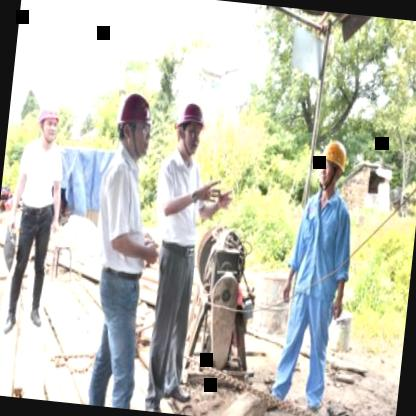helmet: (112, 90, 154, 162), (172, 95, 209, 160), (316, 138, 348, 195), (33, 94, 62, 152)
